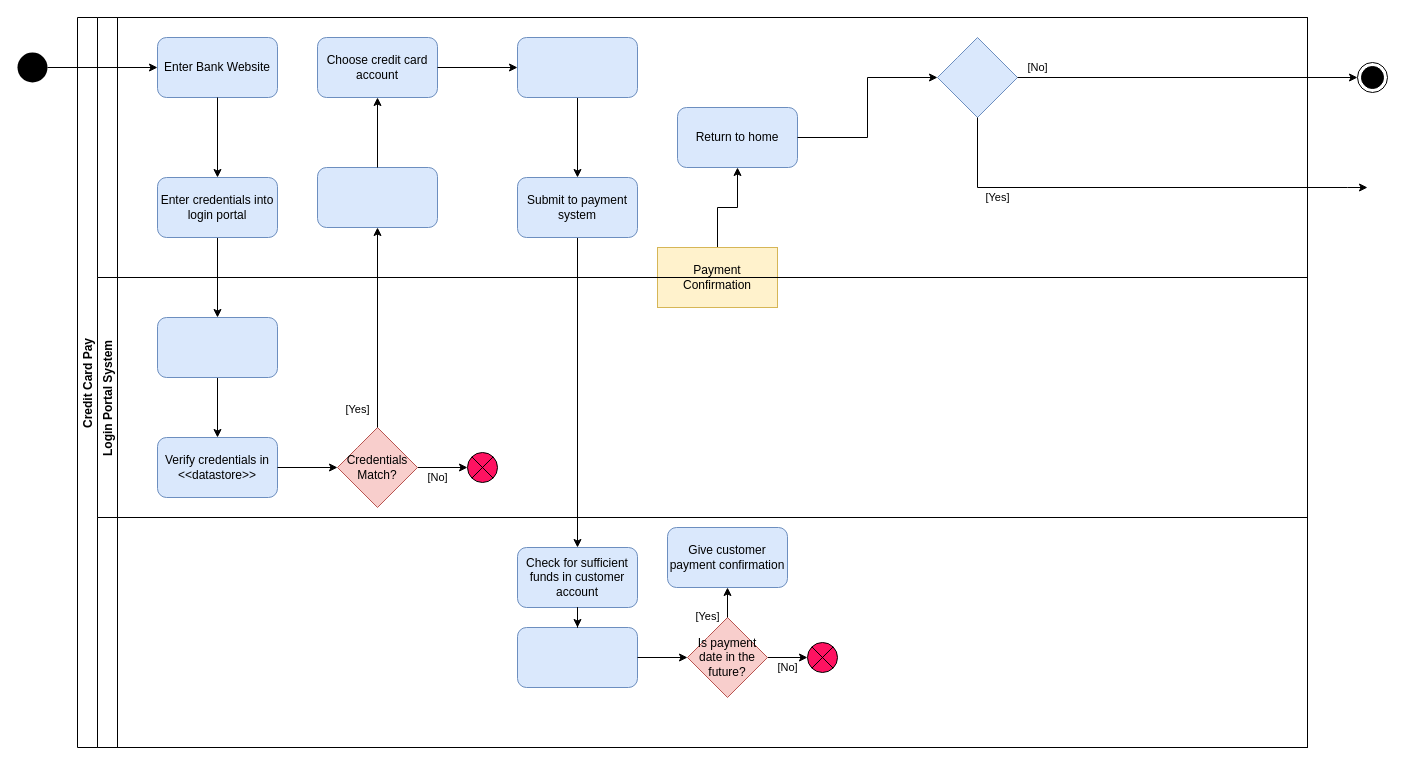
This 1405x765 diagram has some shape labels left out. Each missing label, with the box of its shape:
Continue Banking: (936, 36, 1018, 118)
Customer: (96, 16, 1308, 278)
Fill required fields: (516, 36, 638, 98)
Payment Process System: (96, 516, 1308, 748)
Proceed to Landing Page: (316, 166, 438, 228)
Receive Login Credentials via API: (156, 316, 278, 378)
Verify payment date: (516, 626, 638, 688)
